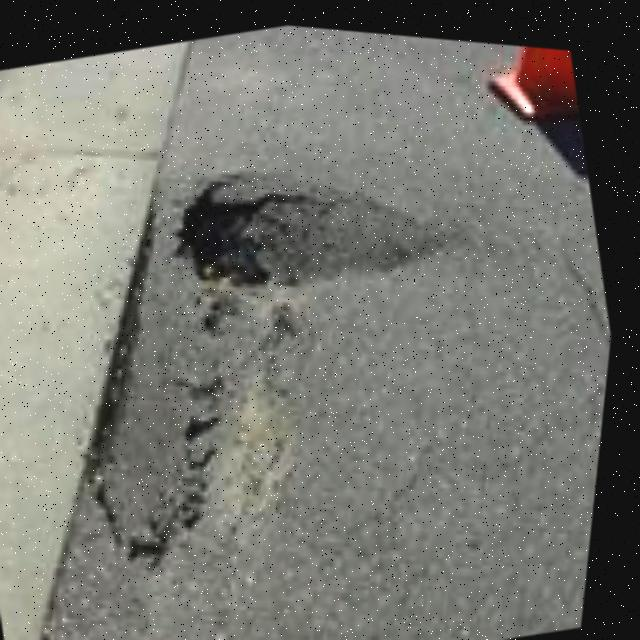Pothole: (24, 255, 325, 605), (144, 100, 491, 368)
